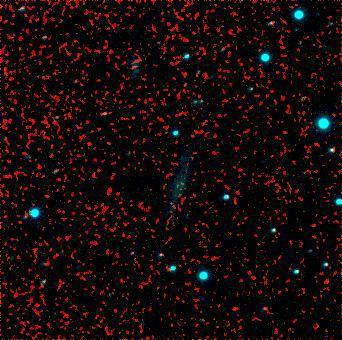star: (220, 295, 250, 325)
